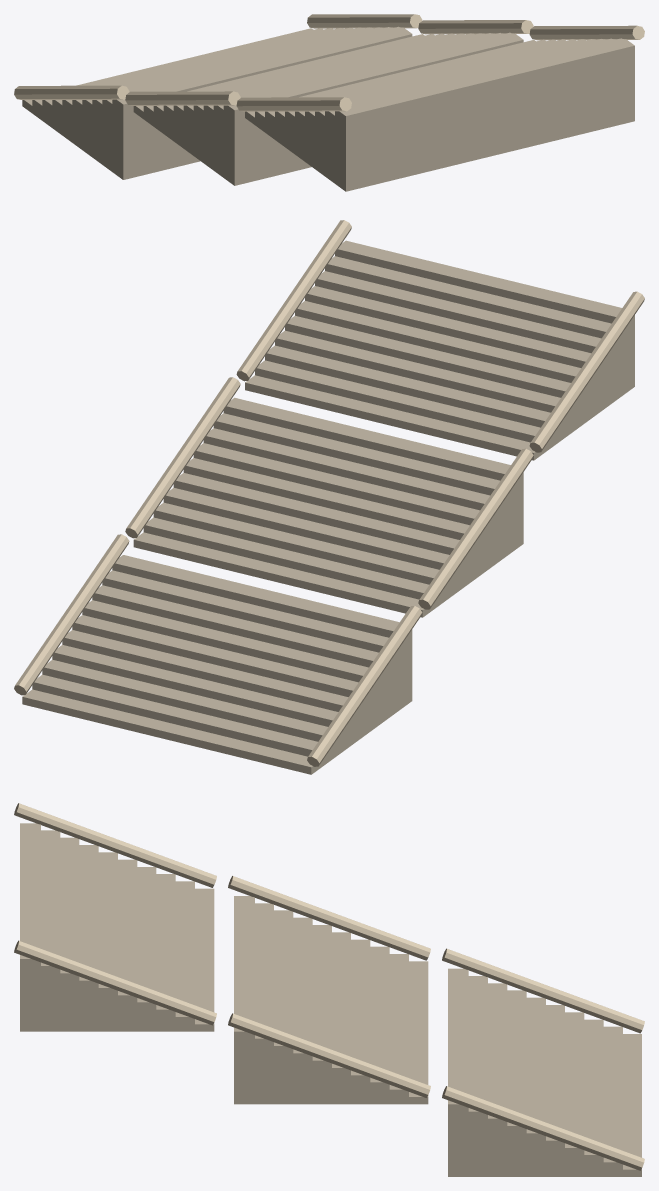
Rendered from SM_18_Stairs_North.fbx.
3 renders of one model, top to bottom at view 1: azimuth 30°, elevation 25°; view 2: azimuth 150°, elevation 25°; view 3: azimuth 270°, elevation 25°, orthographic. The views are drawn at different scales.
Visible parts, largest first — view 1: Stairs_North; view 2: Stairs_North; view 3: Stairs_North.
Part boxes in pixels (left/top/right/bottom): Stairs_North: left=14, top=14, right=644, bottom=191; Stairs_North: left=14, top=220, right=644, bottom=774; Stairs_North: left=14, top=803, right=644, bottom=1176.
Bounding box in the file's own units: 634 × 1180 × 489.
